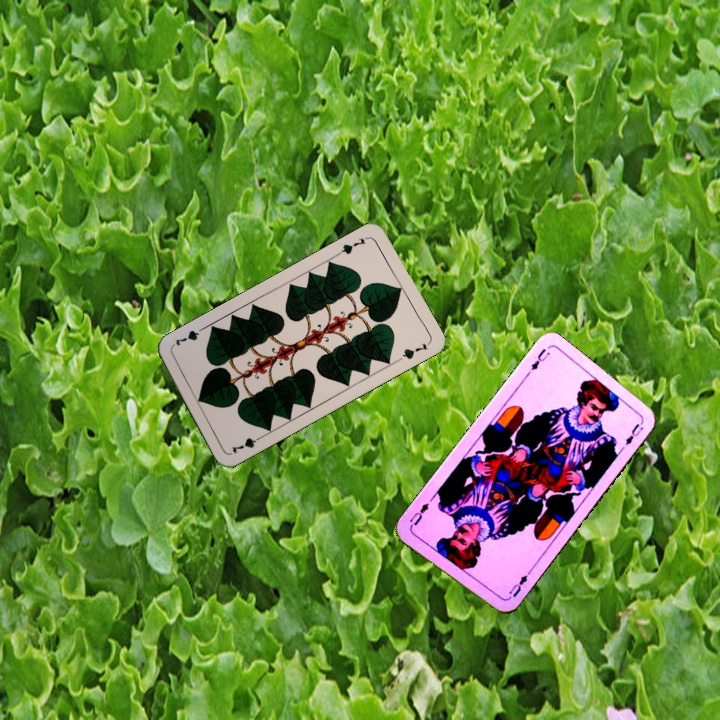EU: (505, 568, 532, 600), (527, 344, 553, 373)
G7: (227, 431, 266, 456), (334, 234, 368, 258)
